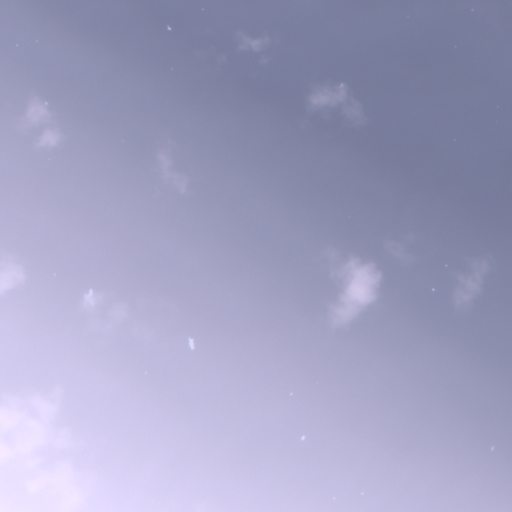Iceberg: (189, 337, 193, 348), (167, 25, 171, 29), (301, 435, 304, 439), (491, 446, 493, 449), (432, 288, 434, 290), (471, 9, 473, 10), (445, 264, 446, 265), (290, 393, 291, 394)
